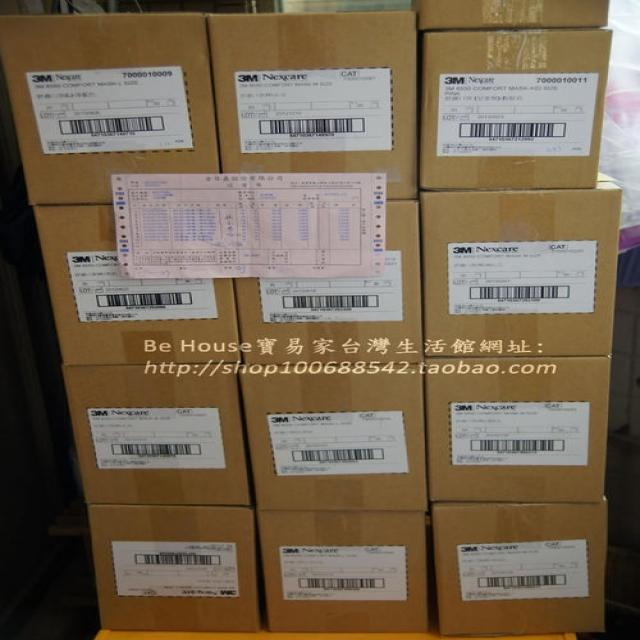box: (0, 14, 219, 203), (207, 8, 419, 201), (422, 173, 623, 355), (35, 205, 239, 365), (420, 28, 611, 191), (234, 201, 422, 364), (239, 365, 428, 510), (424, 357, 611, 501), (63, 365, 250, 507), (430, 503, 605, 635), (87, 504, 261, 634), (257, 510, 428, 633)
